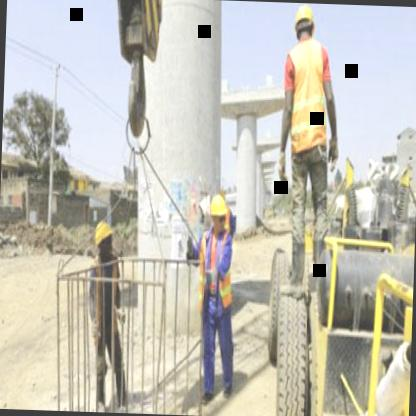helmet: (206, 190, 230, 238), (294, 4, 318, 46), (94, 216, 115, 260)
